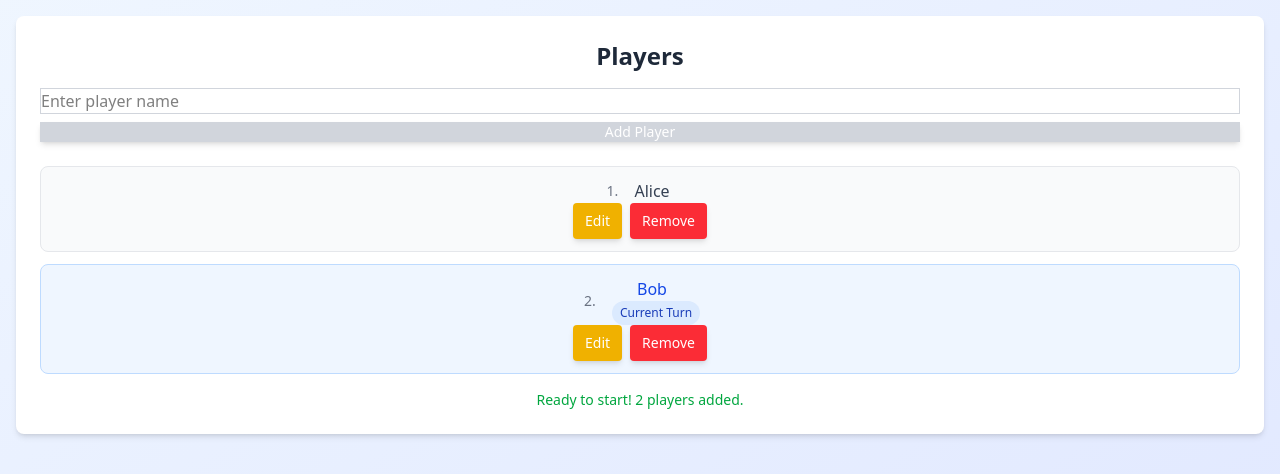
Scenario: PlayerManager Component › Player Editing › should enter edit mode when edit button is clicked
Click the button "Edit" below "Alice" at x=598, y=221, box 573,203 -> 622,239
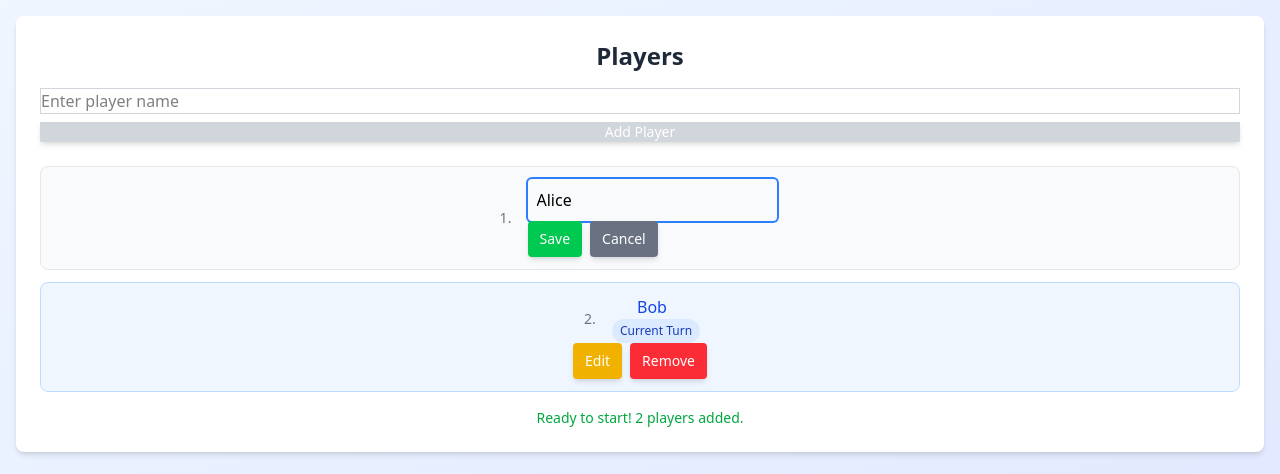
Expected: the field showing "Alice" is shown, 528,179 -> 776,221
Expected: the button "Save" is shown, 528,221 -> 582,257
Expected: the button "Cancel" is shown, 590,221 -> 658,257
